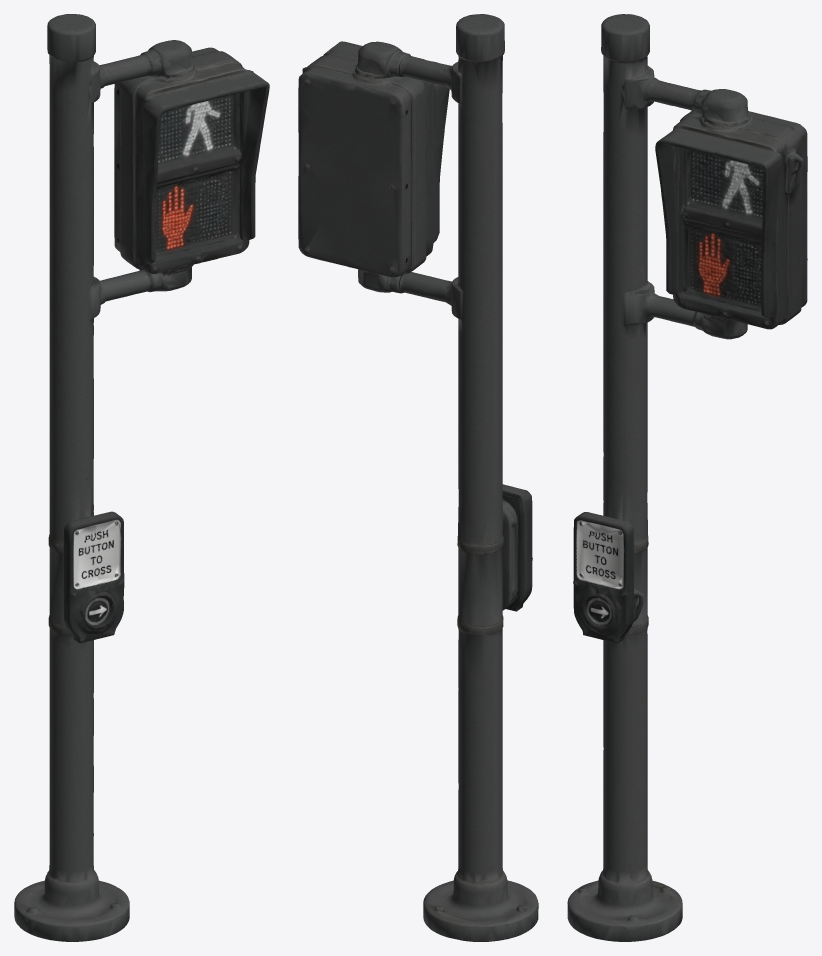
The model's file is psignal.glb.
3 renders of one model, left to right at view 1: azimuth 30°, elevation 25°; view 2: azimuth 150°, elevation 25°; view 3: azimuth 330°, elevation 25°, orthographic.
Parts seen in each view (by area): view 1: mesh_node; view 2: mesh_node; view 3: mesh_node.
Part boxes in pixels (x1,y1,x2,y2): mesh_node: (14,14,269,941); mesh_node: (298,14,538,941); mesh_node: (567,14,807,941).
Size of the model in its own units: 0.5117 by 1.9 by 0.2231.
1 material, 1 textured.
